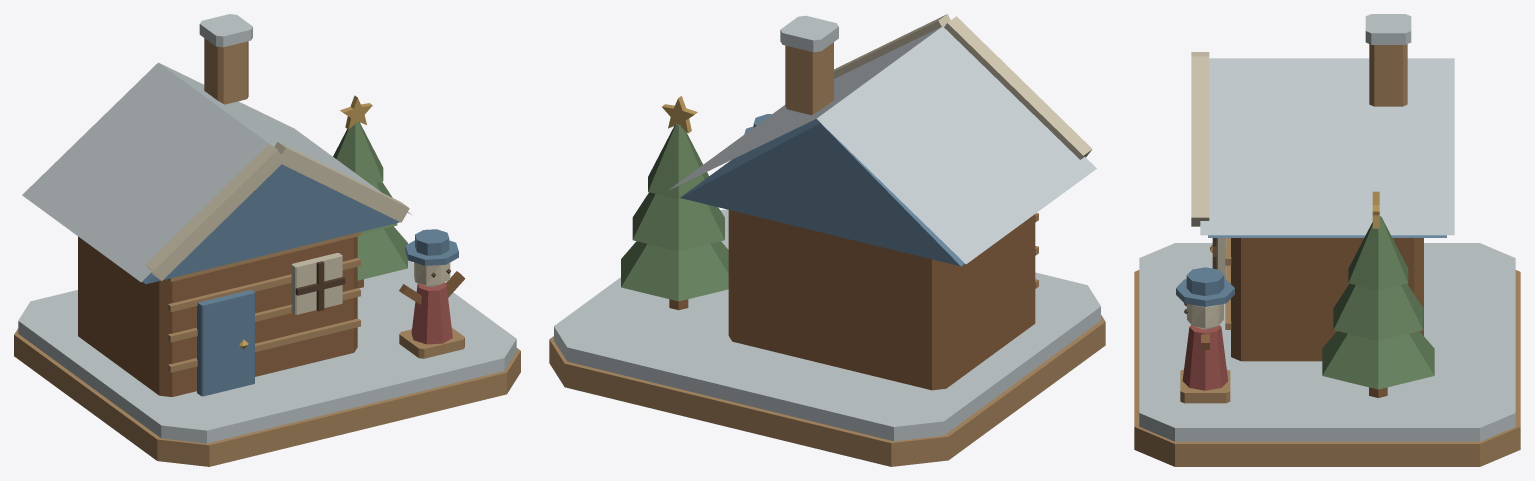
Rendered from deco_snow_house.glb.
3 renders of one model, left to right at view 1: azimuth 30°, elevation 25°; view 2: azimuth 150°, elevation 25°; view 3: azimuth 270°, elevation 25°, orthographic. The views are drawn at different scales.
Visible parts, largest first — view 1: geometry; view 2: geometry; view 3: geometry.
Boxes of the visible parts, x1=… form: geometry: x1=14, y1=14, x2=520, y2=466; geometry: x1=549, y1=14, x2=1105, y2=466; geometry: x1=1134, y1=14, x2=1520, y2=466.
Bounding box in the file's own units: 0.89 × 0.7425 × 0.76.
